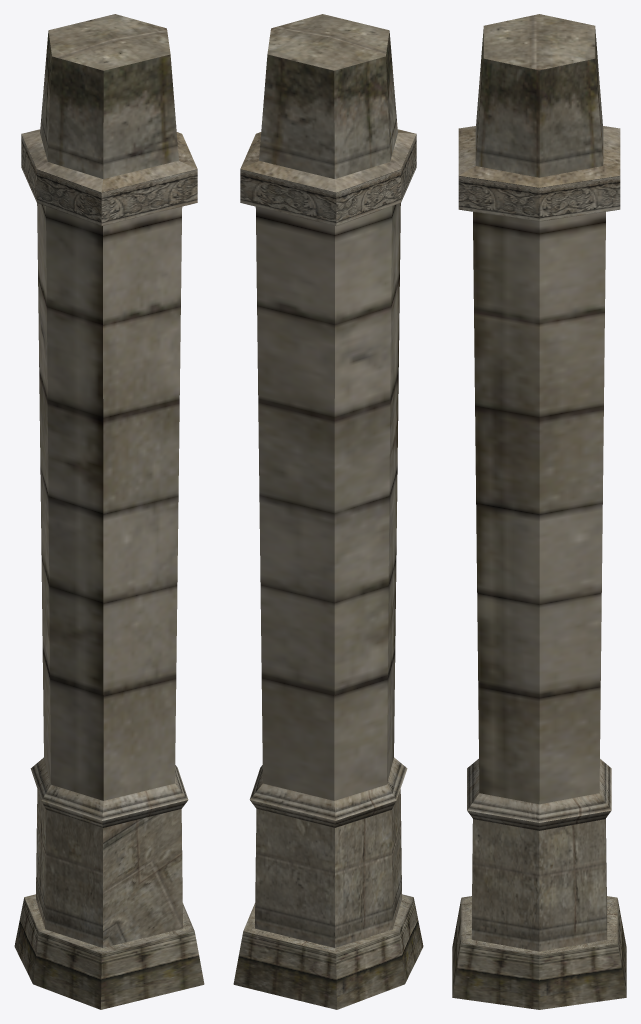
The model's file is SM_EN_2005_zhizi02.FBX.
3 renders of one model, left to right at view 1: azimuth 30°, elevation 25°; view 2: azimuth 150°, elevation 25°; view 3: azimuth 270°, elevation 25°, orthographic.
Visible parts, largest first — view 1: SM_EN_2005_zhizi02; view 2: SM_EN_2005_zhizi02; view 3: SM_EN_2005_zhizi02.
Part boxes in pixels (x1,y1,x2,y2): SM_EN_2005_zhizi02: [14, 14, 204, 1009]; SM_EN_2005_zhizi02: [233, 14, 423, 1009]; SM_EN_2005_zhizi02: [452, 14, 626, 1009].
Bounding box in the file's own units: 28.34 × 164 × 27.76.
